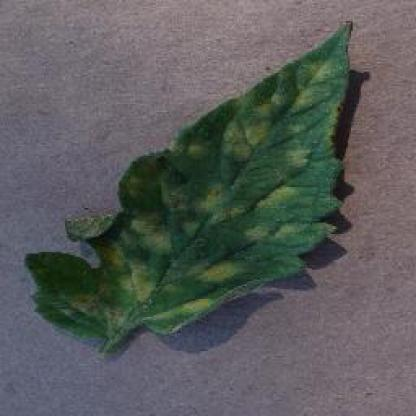bad leaf: (75, 41, 363, 334)
